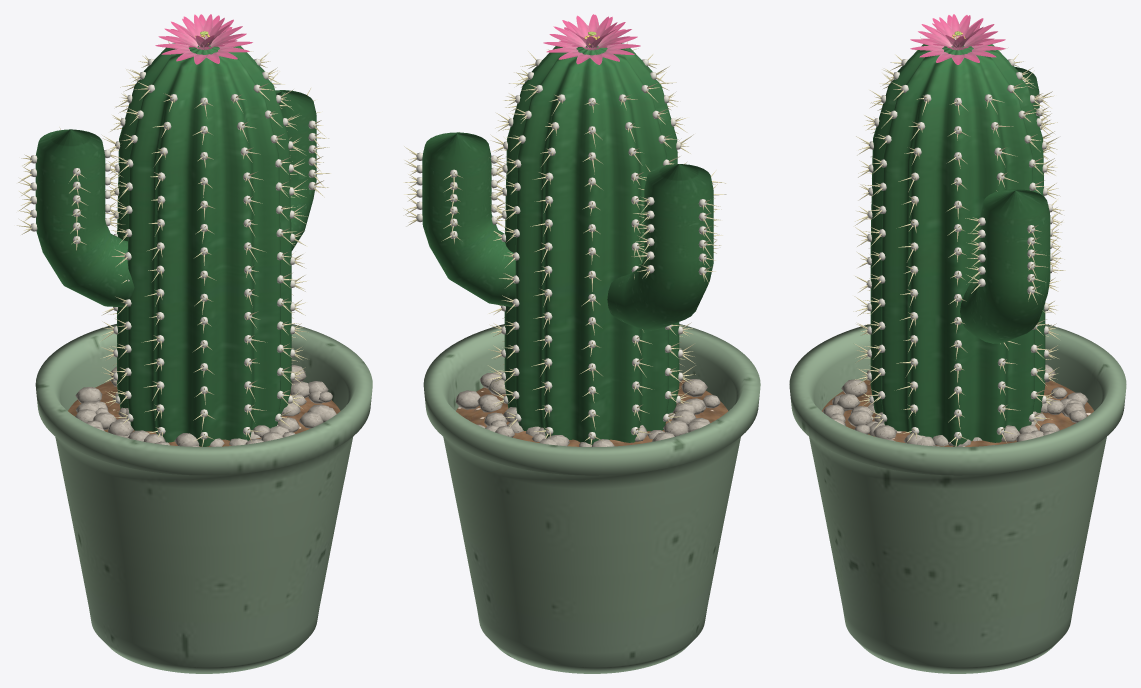
Rendered from cactus.glb.
3 views of the same model, side by side, from view 1: azimuth 30°, elevation 25°; view 2: azimuth 150°, elevation 25°; view 3: azimuth 270°, elevation 25° (orthographic).
Parts seen in each view (by area): view 1: piece-3, piece-0, piece-5, piece-4, piece-2, piece-6, piece-1; view 2: piece-3, piece-0, piece-5, piece-4, piece-2, piece-6, piece-1; view 3: piece-0, piece-3, piece-5, piece-4, piece-2, piece-6, piece-1.
Part boxes in pixels (box(x1,y1,x2,y2)): piece-3: box(35, 43, 316, 446); piece-0: box(35, 324, 372, 673); piece-5: box(17, 41, 330, 446); piece-4: box(30, 59, 316, 439); piece-2: box(75, 365, 336, 446); piece-6: box(155, 14, 252, 64); piece-1: box(68, 381, 340, 446); piece-3: box(422, 43, 713, 444); piece-0: box(423, 324, 760, 673); piece-5: box(403, 42, 726, 446); piece-4: box(416, 59, 706, 439); piece-2: box(455, 371, 720, 446); piece-6: box(543, 14, 640, 64); piece-1: box(456, 380, 728, 446); piece-0: box(789, 324, 1126, 673); piece-3: box(870, 44, 1050, 446); piece-5: box(853, 37, 1065, 446); piece-4: box(866, 59, 1052, 439); piece-2: box(822, 364, 1088, 446); piece-6: box(910, 14, 1005, 64); piece-1: box(822, 380, 1093, 446).
Size of the model in its own units: 0.1755 by 0.3251 by 0.164.
Materials: 10 (5 with a texture image).
